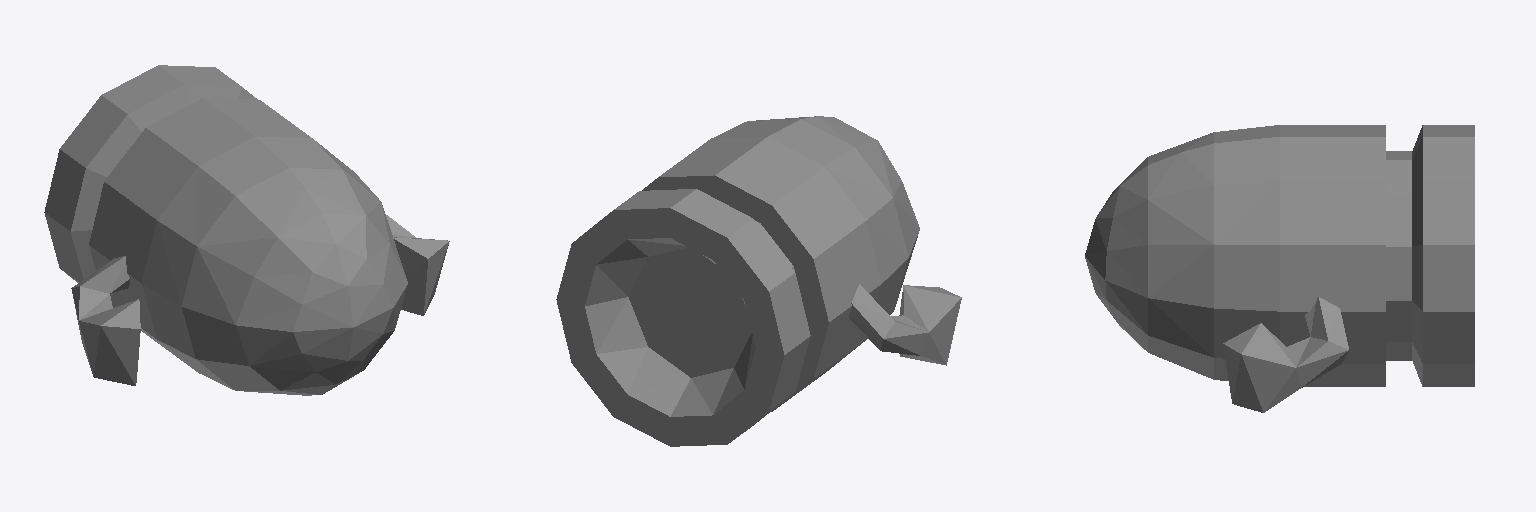
Rendered from killer_body01a.obj.
The picture shows the model from 3 angles: view 1: azimuth 30°, elevation 25°; view 2: azimuth 150°, elevation 25°; view 3: azimuth 270°, elevation 25°; orthographic projection.
Visible parts, largest first — view 1: killer_body; view 2: killer_body; view 3: killer_body.
Part boxes in pixels (bbox=[...]): killer_body: bbox=[44, 65, 449, 395]; killer_body: bbox=[556, 116, 961, 446]; killer_body: bbox=[1085, 125, 1474, 412].
Size of the model in its own units: 13.87 by 9.06 by 13.43.